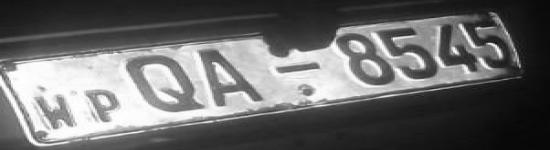-: (270, 59, 325, 74)
4: (431, 22, 478, 72)
5: (377, 28, 443, 82), (461, 20, 520, 70)
8: (331, 32, 396, 86)
A: (198, 48, 268, 110)
P: (122, 54, 204, 115), (83, 85, 128, 124)
W: (26, 92, 81, 130)
